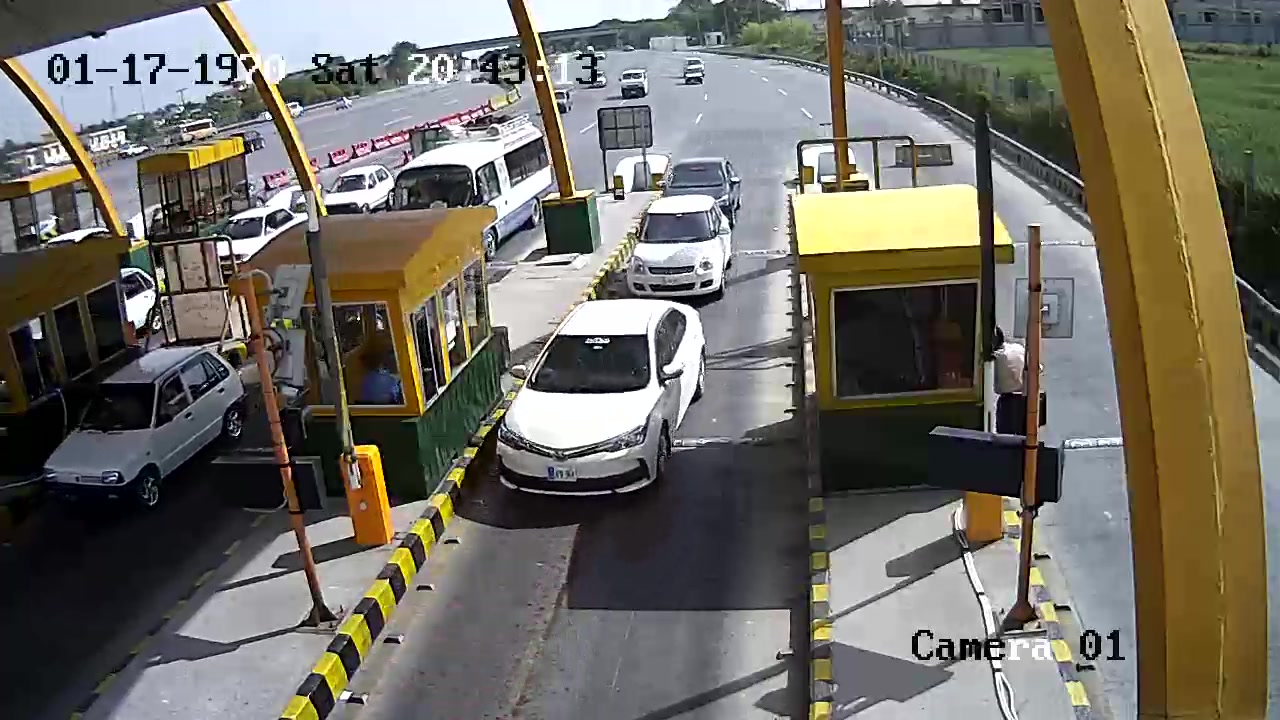F1: (482, 294, 741, 525)
